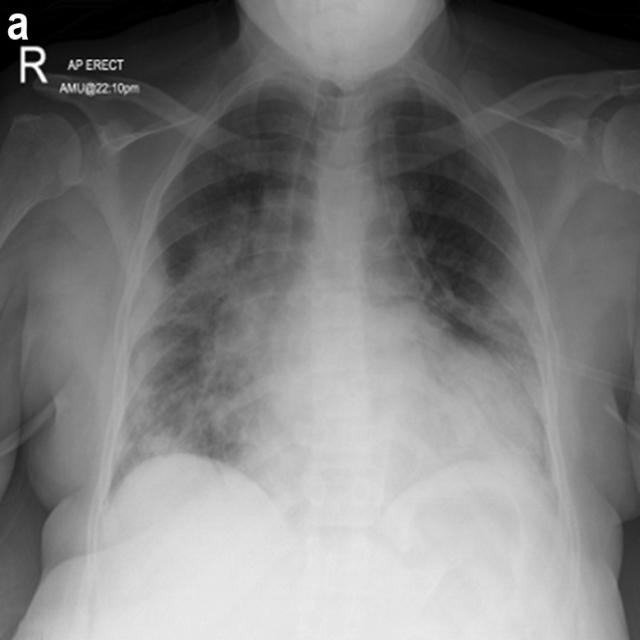abnormalities: (138, 429, 195, 453)
diaphragm: (105, 455, 560, 640)
heart: (266, 191, 494, 490)
left_lobe: (362, 65, 564, 525)
right_lobe: (102, 70, 326, 520)
